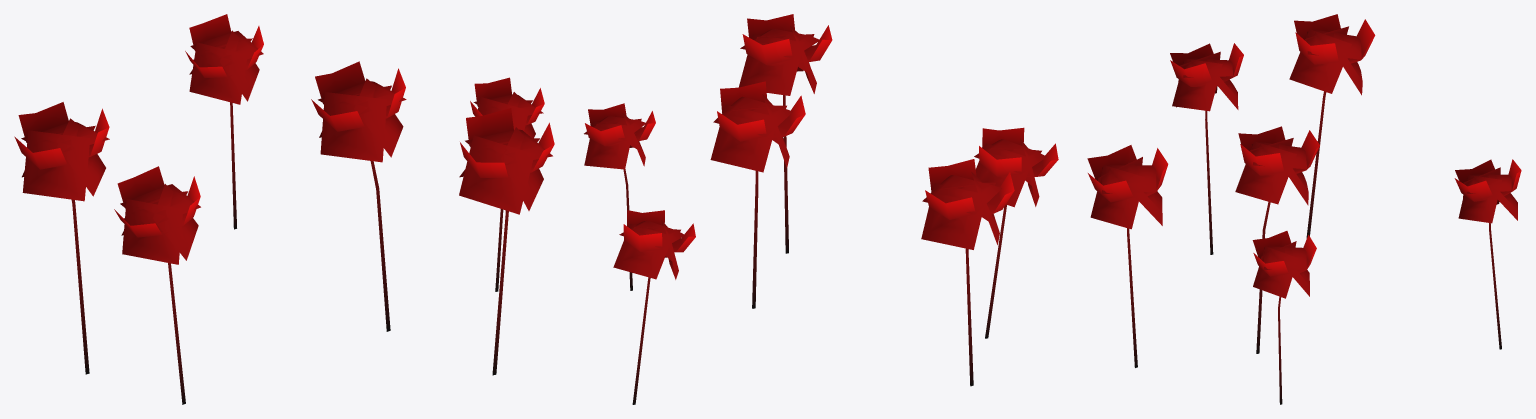
The model's file is SM_Spider_Lily_Group.fbx.
The picture shows the model from 3 angles, left to right: view 1: azimuth 30°, elevation 25°; view 2: azimuth 150°, elevation 25°; view 3: azimuth 270°, elevation 25°; orthographic projection. The views are drawn at different scales.
Visible parts, largest first — view 1: Spider Lily.006; view 2: Spider Lily.006; view 3: Spider Lily.006.
Boxes of the visible parts, x1,y1,x2,y2 form: Spider Lily.006: (14,14,554,404); Spider Lily.006: (584,14,1058,404); Spider Lily.006: (1087,14,1521,404).
Size of the model in its own units: 1.32 by 0.6422 by 1.18.
